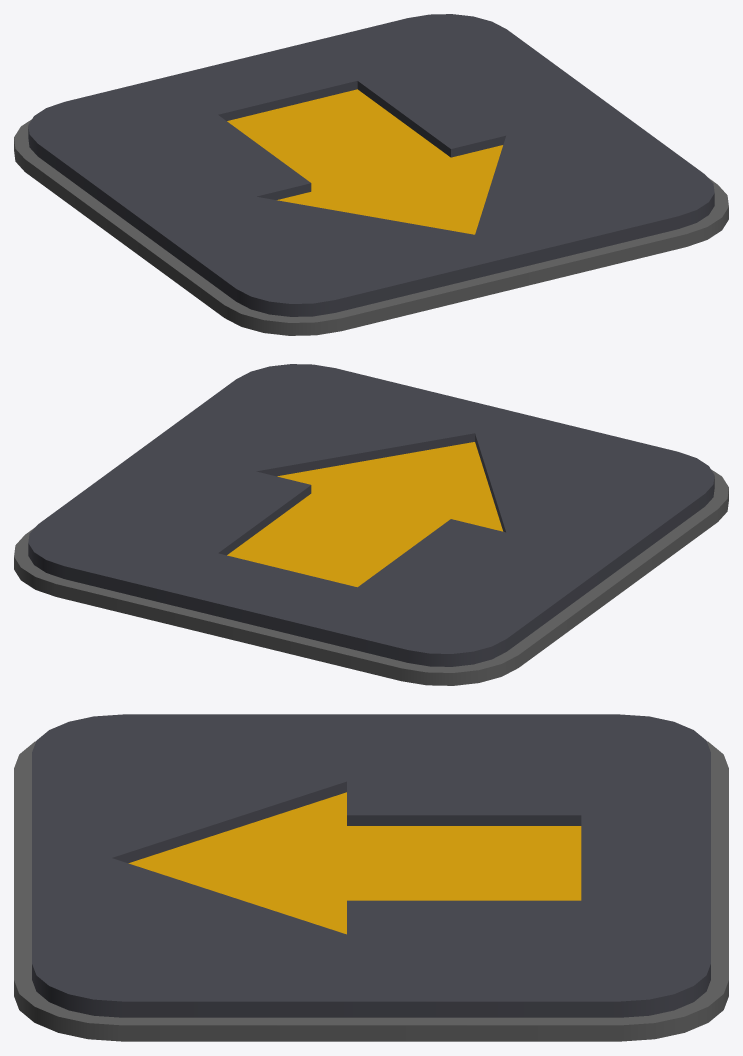
Rendered from Jump_Platform.fbx.
3 renders of one model, top to bottom at view 1: azimuth 30°, elevation 25°; view 2: azimuth 150°, elevation 25°; view 3: azimuth 270°, elevation 25°, orthographic. The views are drawn at different scales.
Parts seen in each view (by area): view 1: Jump_Platform; view 2: Jump_Platform; view 3: Jump_Platform.
Part boxes in pixels (left/top/right/bottom): Jump_Platform: left=14, top=14, right=728, bottom=335; Jump_Platform: left=14, top=364, right=728, bottom=685; Jump_Platform: left=14, top=714, right=728, bottom=1041.
Bounding box in the file's own units: 4 × 4 × 0.2.
